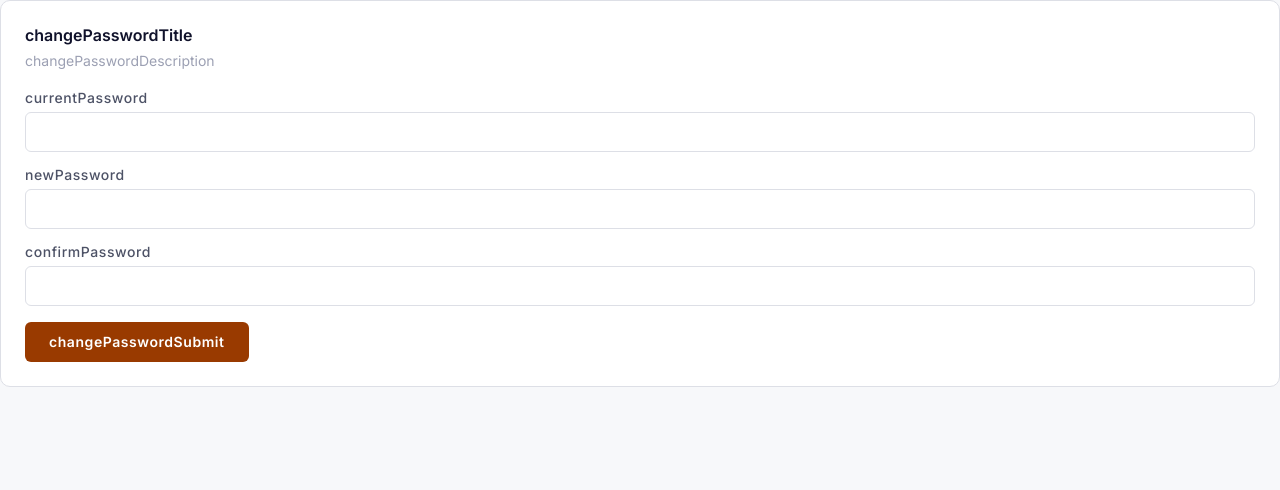
Scenario: ChangePasswordForm › shows success message after successful password change
Type "OldPass1!" into the password field labelled "currentPassword" at [640, 132], box [25,112,1255,152]
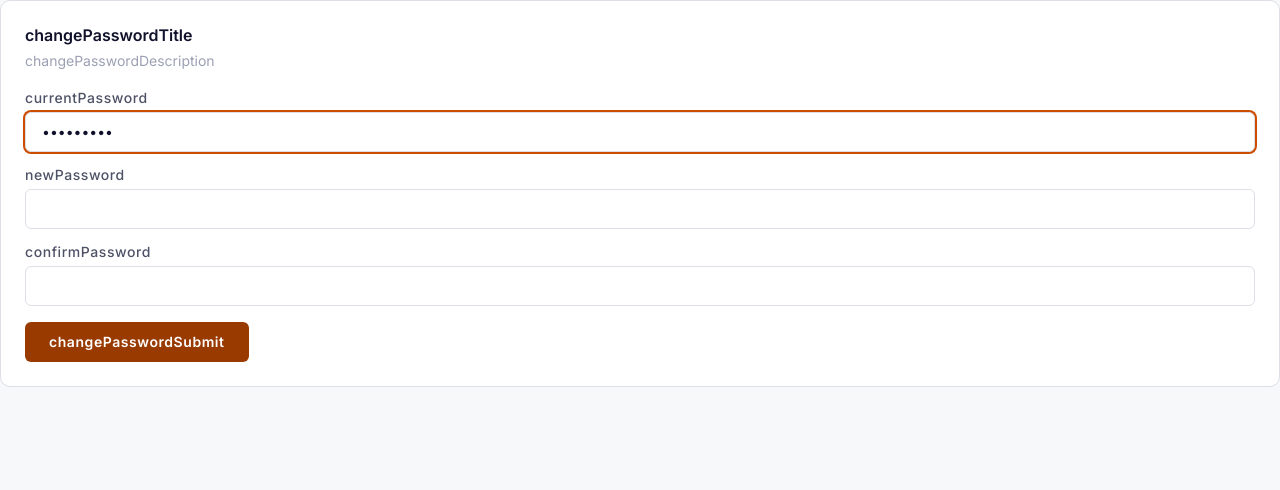
Type "SecurePass1!" into the password field labelled "newPassword" at [640, 209], box [25,189,1255,229]
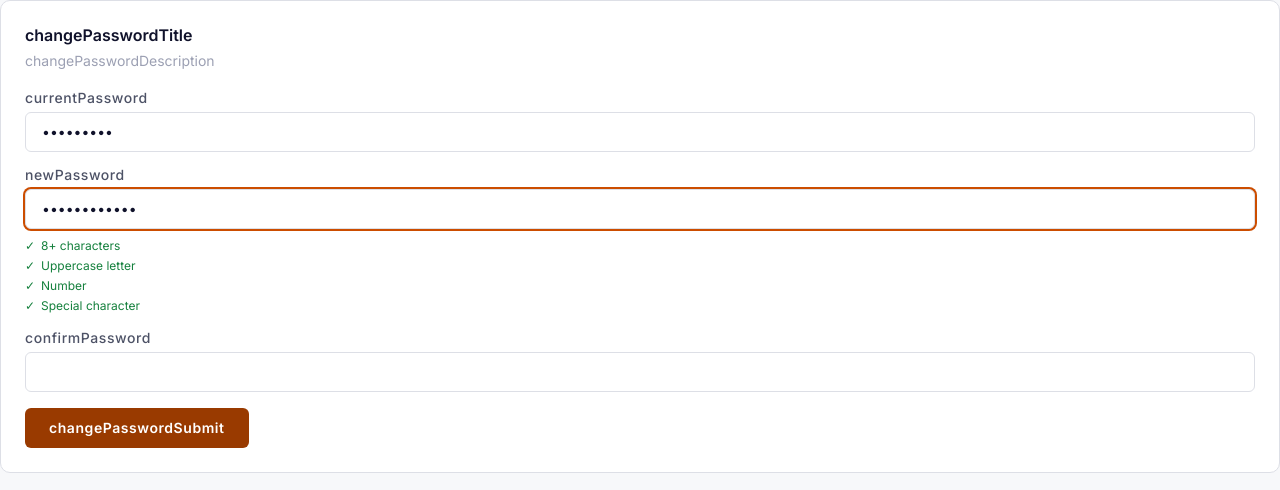
Type "SecurePass1!" into the password field labelled "confirmPassword" at [640, 372], box [25,352,1255,392]
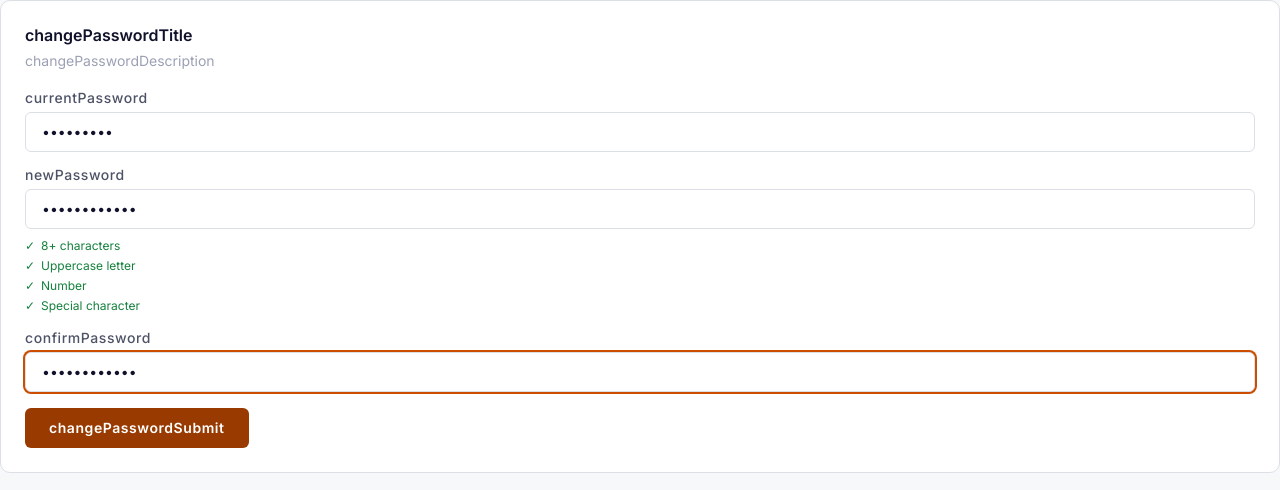
Click the button "changePasswordSubmit" at [137, 428], box [25,408,249,448]
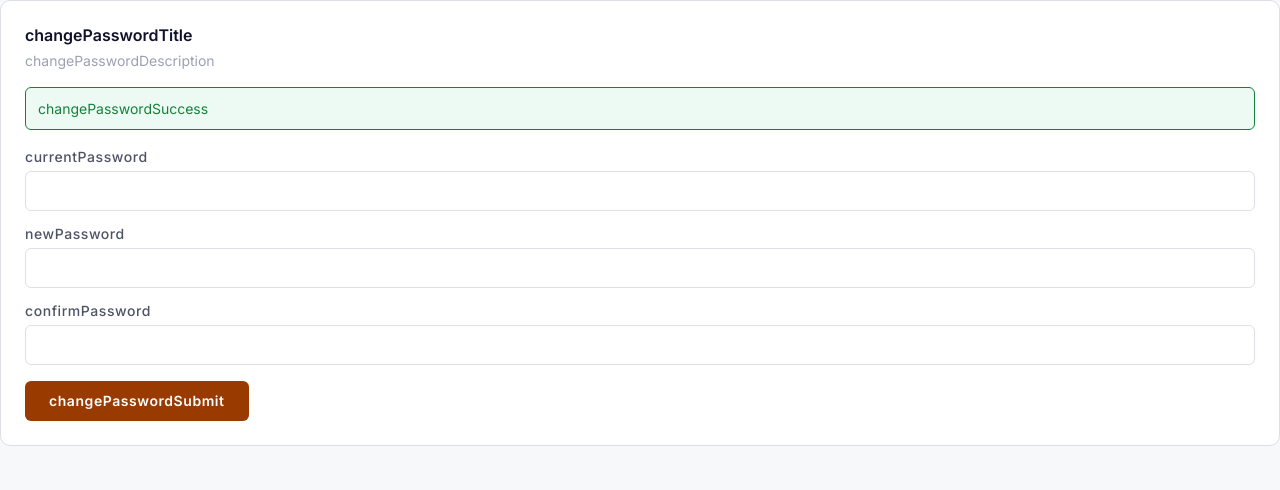
Expected: the text "changePasswordSuccess" is shown, [25,87,1255,130]
